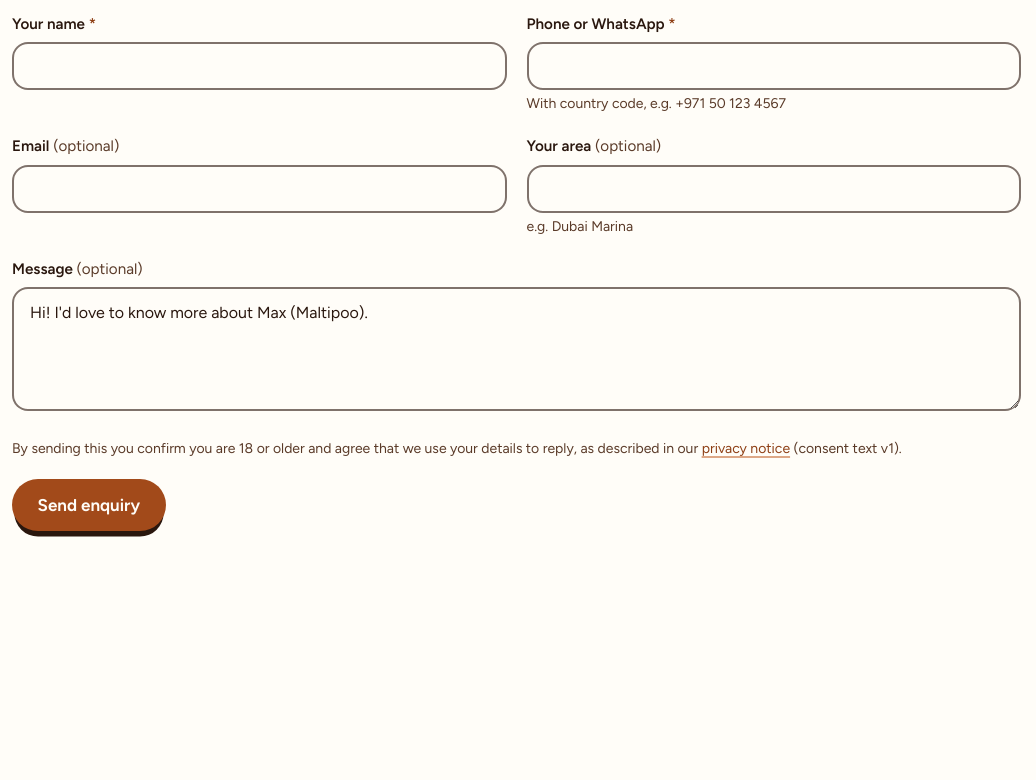
Test: EnquiryForm (puppy page) › shows a retry message with the WhatsApp alternative on failure
The image size is (1036, 780).
Type "Sam Test" into the field labelled "Your name *".
click(259, 66); type("Sam Test")  # box [12, 42, 506, 90]
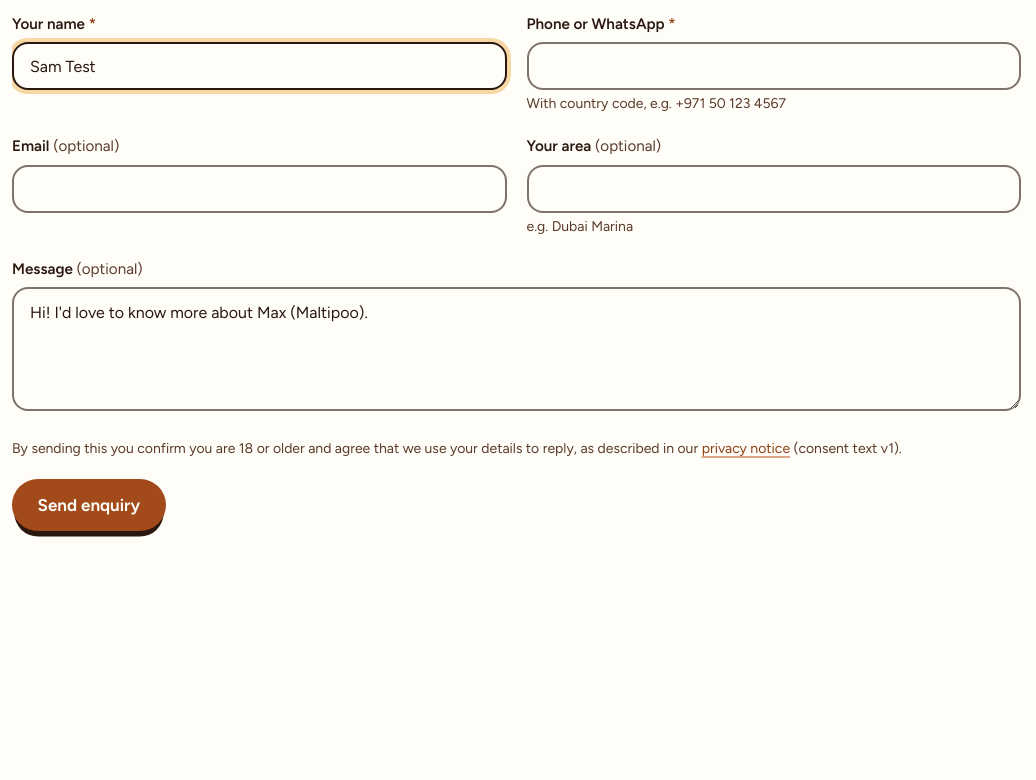
Type "+971501234567" into the field labelled "Phone or WhatsApp *".
click(774, 66); type("+971501234567")  # box [526, 42, 1021, 90]
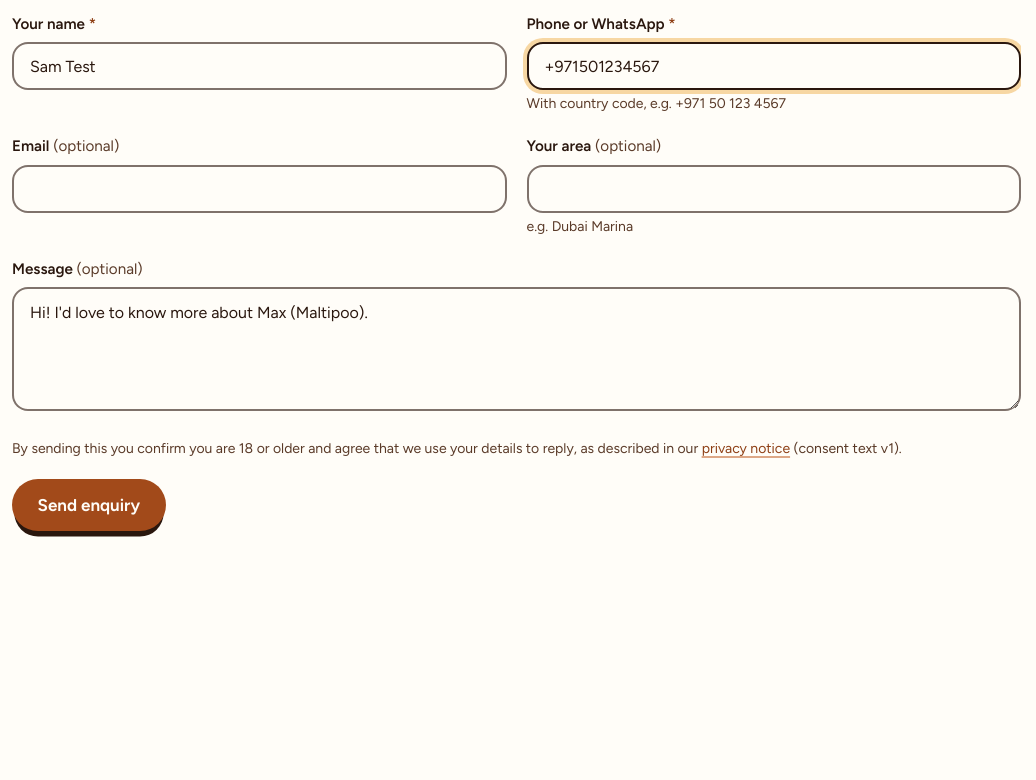
Click the button "Send enquiry".
click(89, 505)  # box [12, 479, 166, 531]
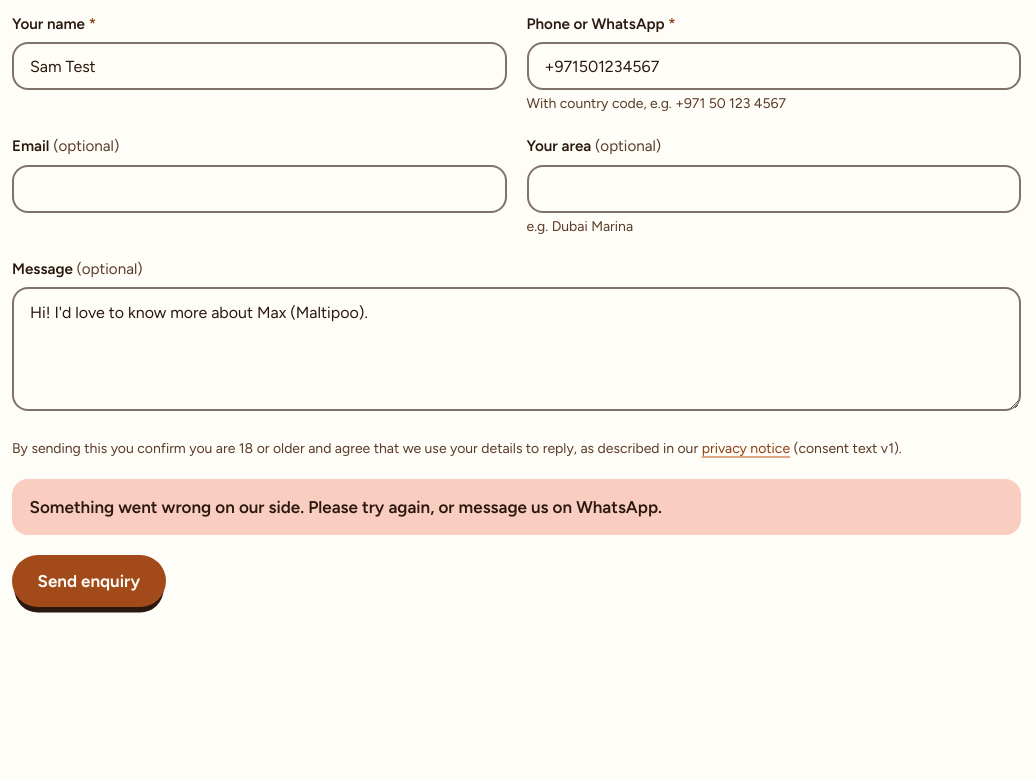
Result: the message shows "WhatsApp" at [304, 496, 662, 516]
